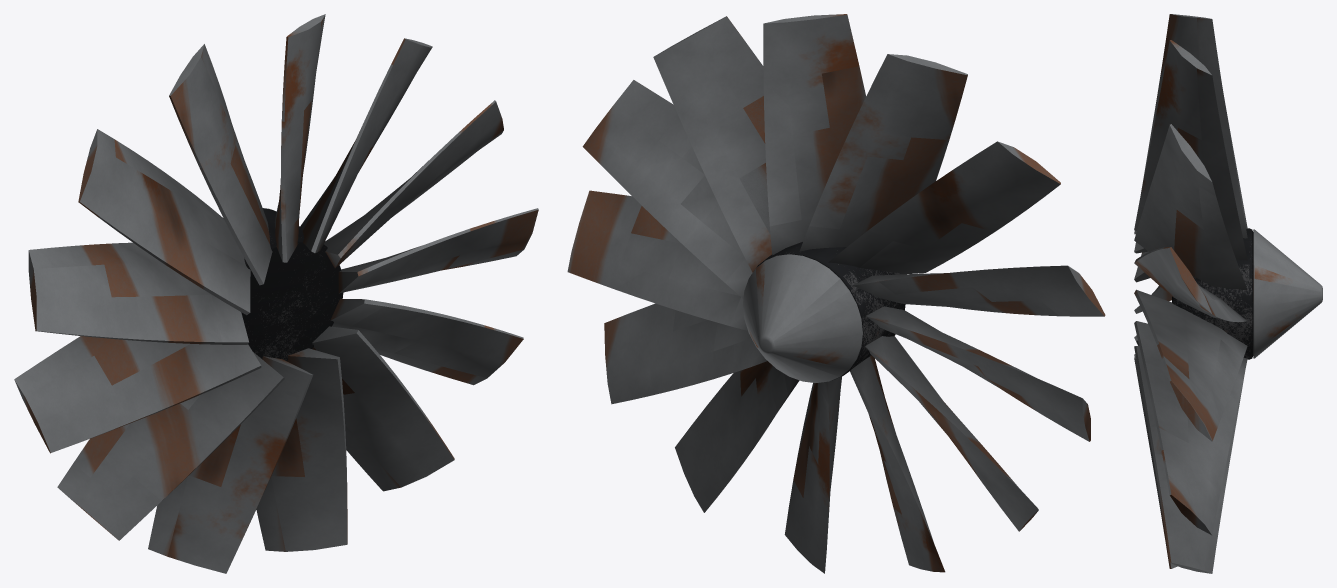
File: turbine_rotor.gltf
3 renders of one model, left to right at view 1: azimuth 30°, elevation 25°; view 2: azimuth 150°, elevation 25°; view 3: azimuth 270°, elevation 25°, orthographic. The views are drawn at different scales.
Parts seen in each view (by area): view 1: turbine_rotor; view 2: turbine_rotor; view 3: turbine_rotor.
Boxes of the visible parts, bbox=[...] form: turbine_rotor: bbox=[14, 14, 538, 573]; turbine_rotor: bbox=[567, 14, 1105, 573]; turbine_rotor: bbox=[1134, 14, 1322, 573].
Size of the model in its own units: 2.88 by 2.9 by 0.9767.
2 materials, 2 textured.
